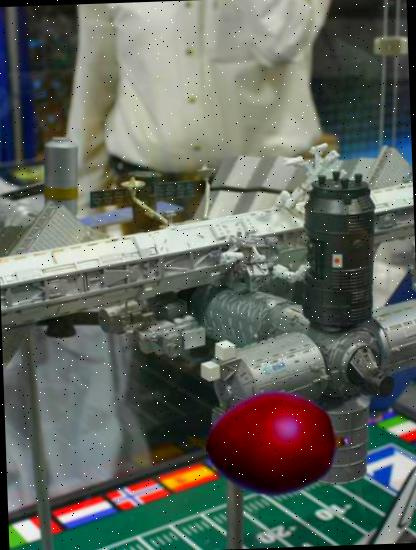Tamarillo: (204, 371, 350, 518)
